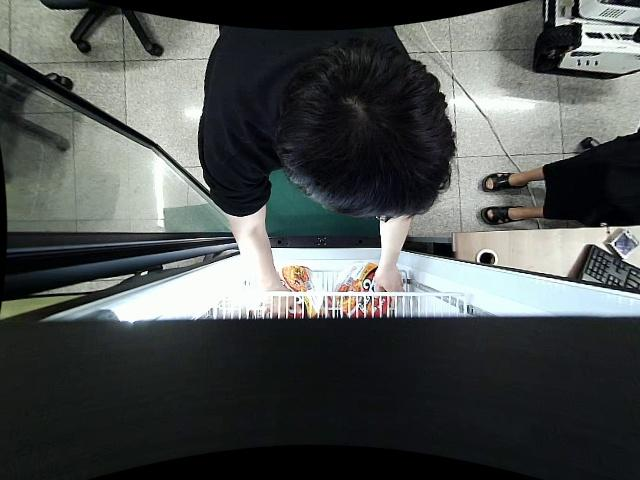00_hand: (373, 265, 406, 306)
10_wangTtukkeong: (337, 267, 392, 317), (278, 265, 326, 317)
